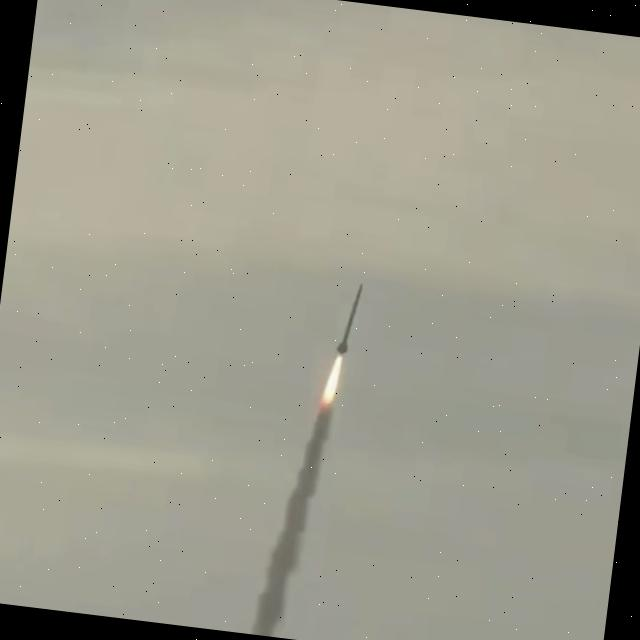smoke_trail_with_rocket: (248, 284, 364, 637)
